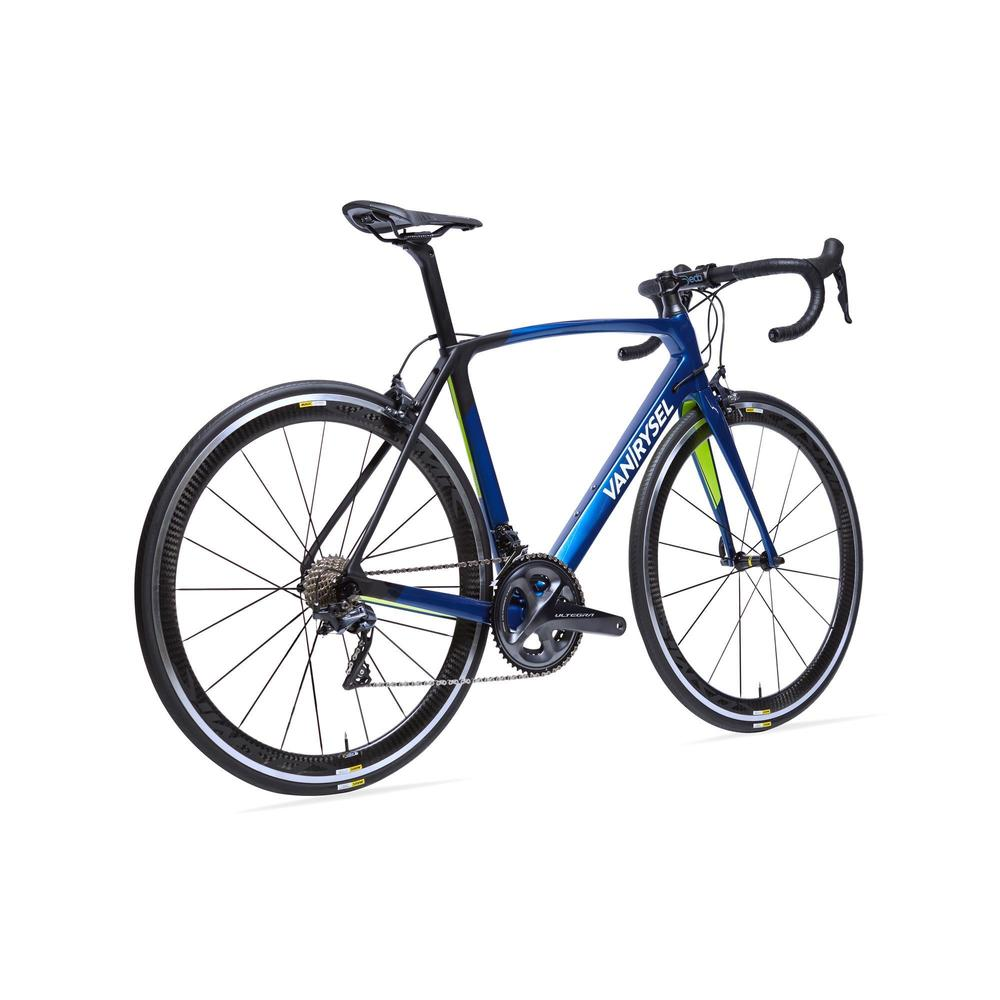RoadBike: (138, 205, 867, 797)
